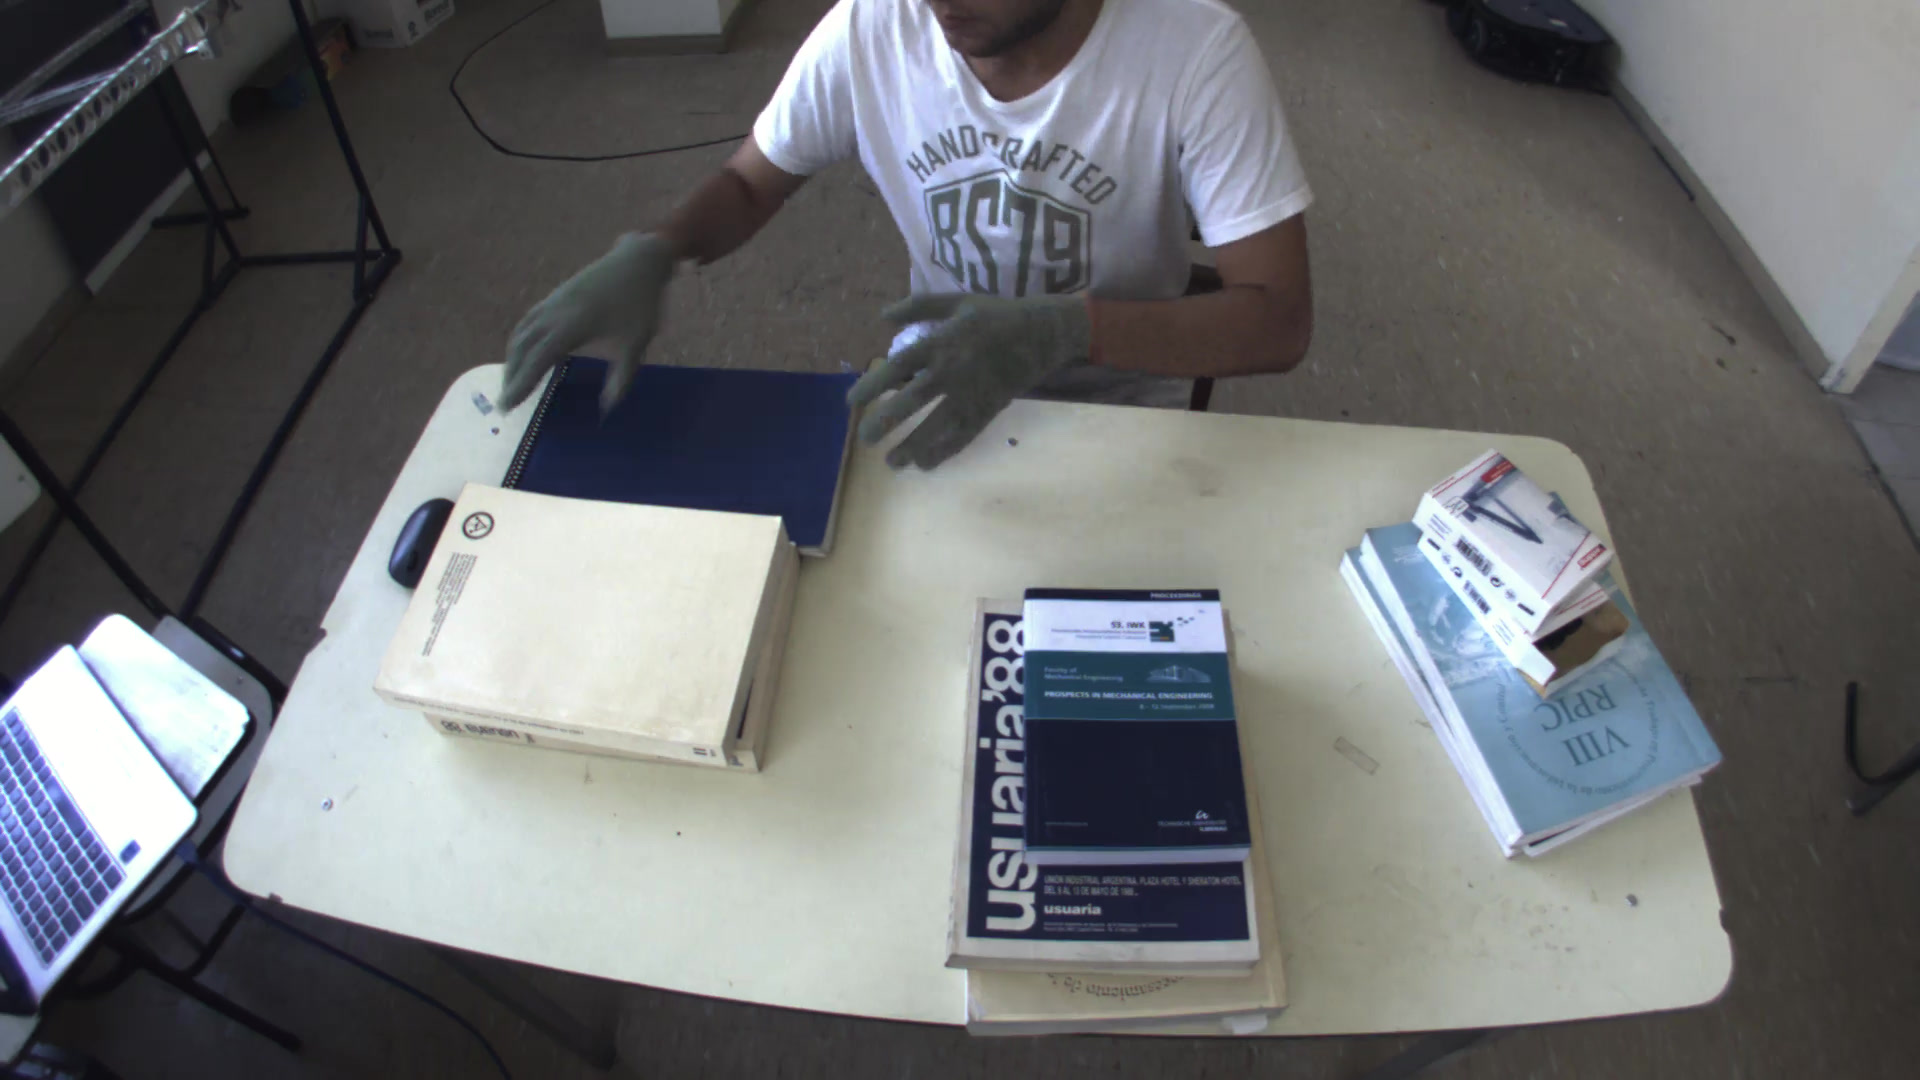hand: (837, 262, 1098, 476), (484, 222, 688, 425)
